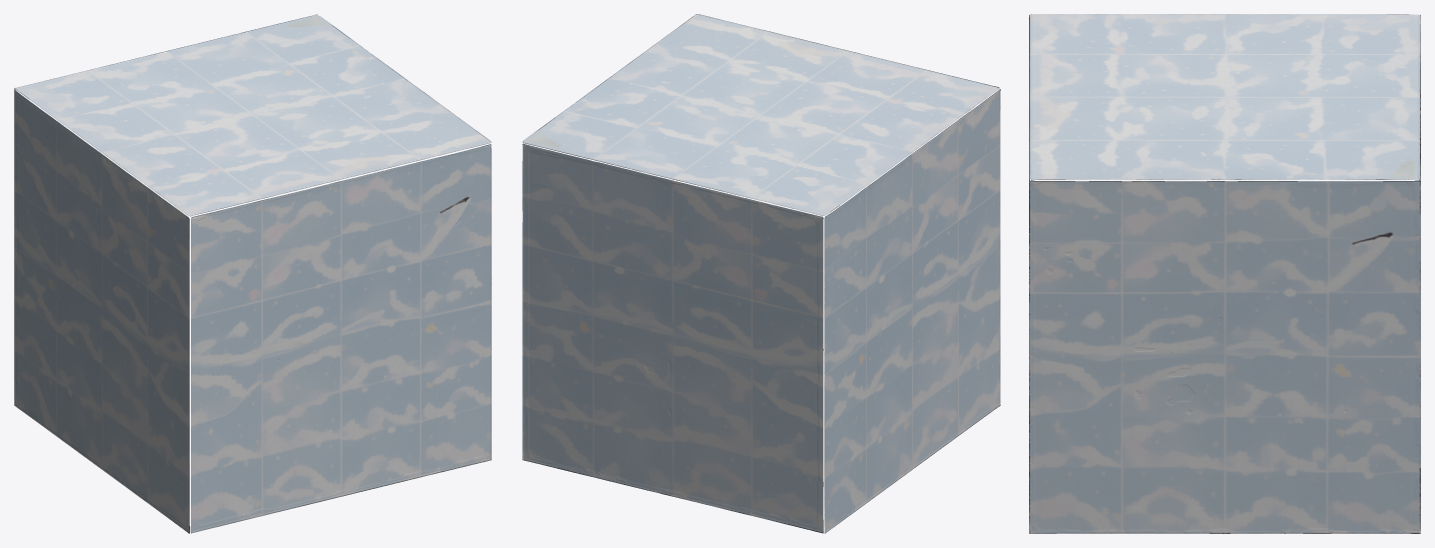
Rendered from COMMON_사물_vfx_stage_transition.glb.
The picture shows the model from 3 angles, left to right: view 1: azimuth 30°, elevation 25°; view 2: azimuth 150°, elevation 25°; view 3: azimuth 270°, elevation 25°; orthographic projection. The views are drawn at different scales.
Visible parts, largest first — view 1: world; view 2: world; view 3: world.
Boxes of the visible parts, x1,y1,x2,y2 form: world: (14, 14, 491, 533); world: (522, 14, 1000, 533); world: (1029, 14, 1420, 533).
Bounding box in the file's own units: 1 × 1 × 1.
1 material, 1 textured.
